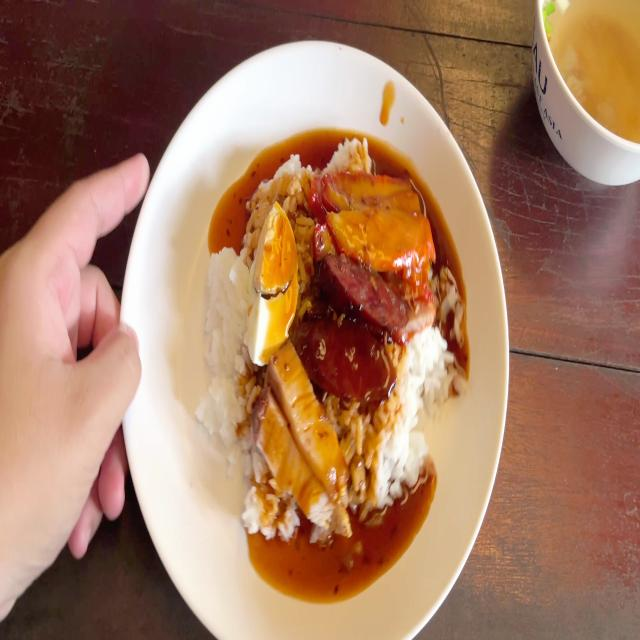boiled_egg: (247, 211, 299, 350)
chainese_sausage: (302, 252, 396, 394)
crispy_pork: (261, 354, 342, 524)
red_pork: (321, 178, 426, 257)
red_pork_and_crispy_pork: (204, 151, 446, 542)
rice: (198, 255, 249, 438), (353, 412, 426, 495), (390, 339, 444, 390)
